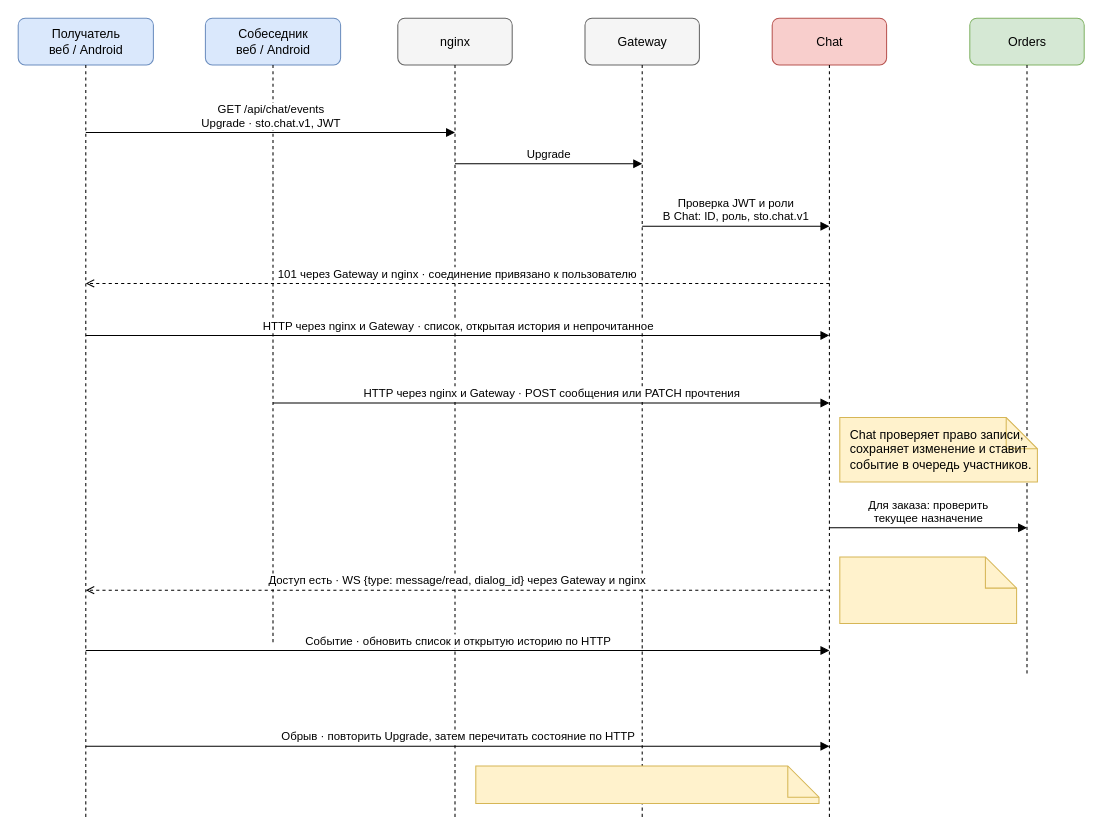
Image size: 1102x838. Some labels were removed from this diagram. Here are the shapes that lost their labels. From the top down, the centre of each, then its label:
[928,589]: Прежнему ответственному и клиенту в архивном диалоге событие не отправляется.
[647,784]: Gateway завершает туннель по истечении JWT.
